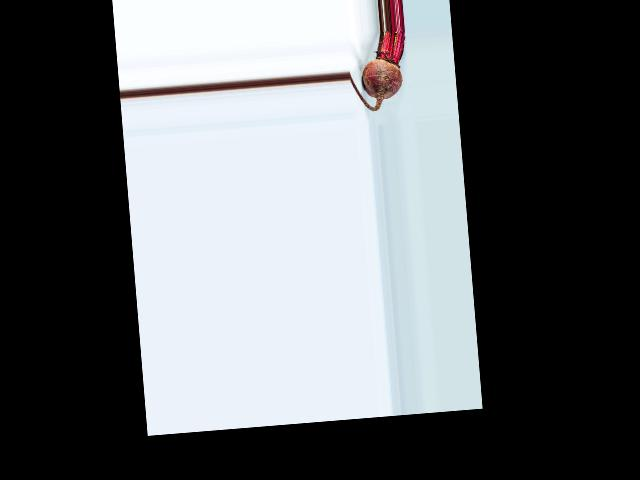beet: (346, 28, 411, 112)
